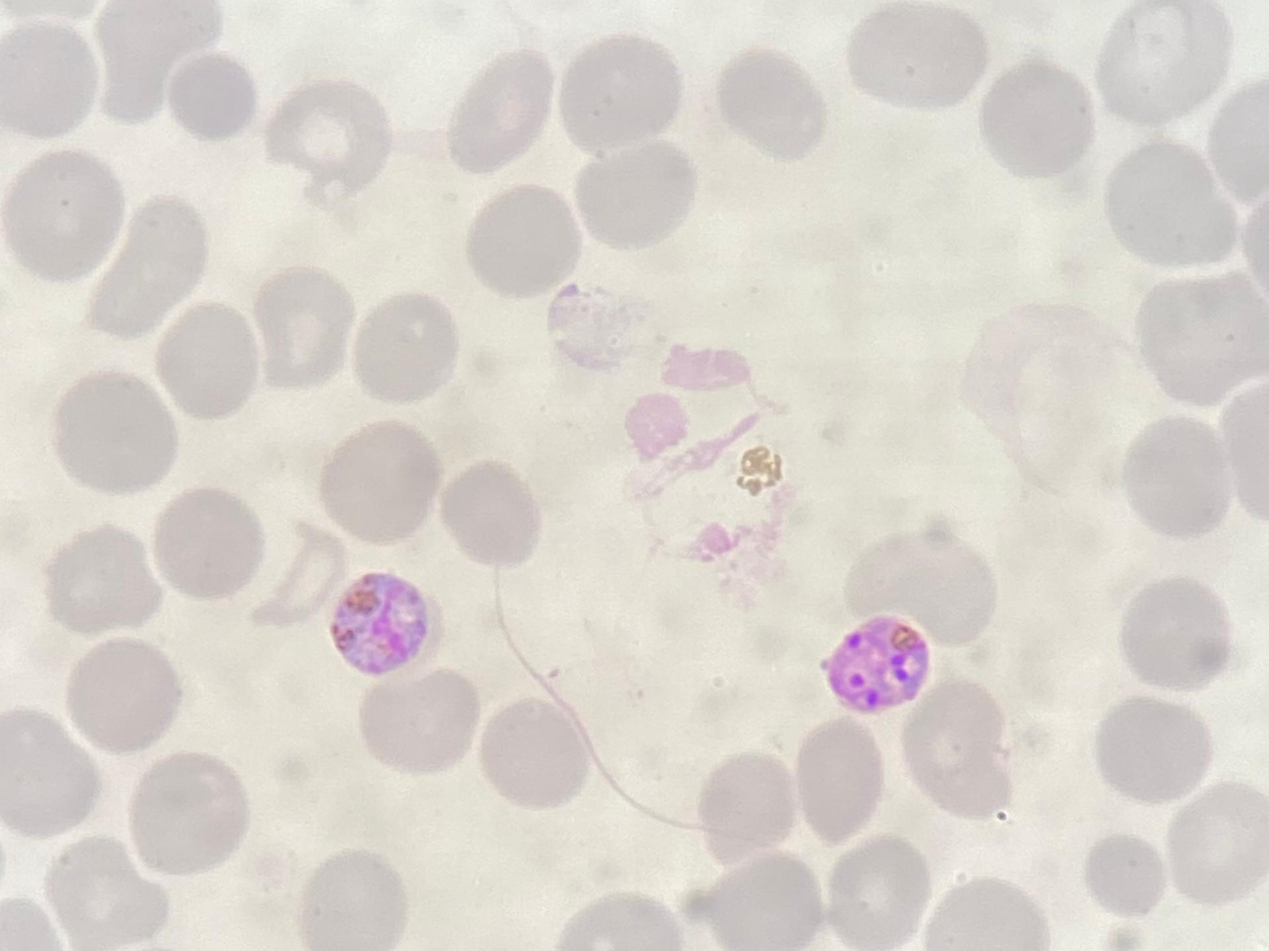Infected: (326, 569, 438, 680), (822, 609, 931, 721)
Uninfected: (1097, 140, 1243, 264), (839, 525, 991, 644), (1091, 3, 1235, 127), (88, 192, 207, 336), (48, 366, 176, 499), (1141, 274, 1269, 403), (905, 673, 1009, 824), (546, 40, 681, 155), (130, 745, 244, 881), (93, 1, 212, 130), (317, 419, 435, 547), (262, 82, 394, 196), (443, 40, 552, 174), (46, 831, 167, 951), (9, 151, 118, 281), (850, 3, 987, 105), (460, 186, 586, 296), (66, 640, 185, 755), (44, 521, 159, 640), (978, 54, 1091, 174), (0, 710, 101, 844), (359, 666, 482, 774), (1168, 778, 1269, 909), (577, 137, 693, 251), (251, 267, 357, 390), (476, 695, 587, 812), (1119, 573, 1229, 689), (1097, 697, 1209, 809), (1121, 419, 1234, 530), (150, 305, 256, 420), (443, 452, 542, 574), (833, 833, 931, 951), (354, 294, 460, 403), (0, 23, 100, 137), (707, 855, 825, 951), (800, 714, 886, 844), (159, 488, 257, 600), (723, 45, 820, 158), (304, 847, 408, 951), (703, 750, 793, 863), (163, 51, 256, 142), (1084, 833, 1169, 913)
